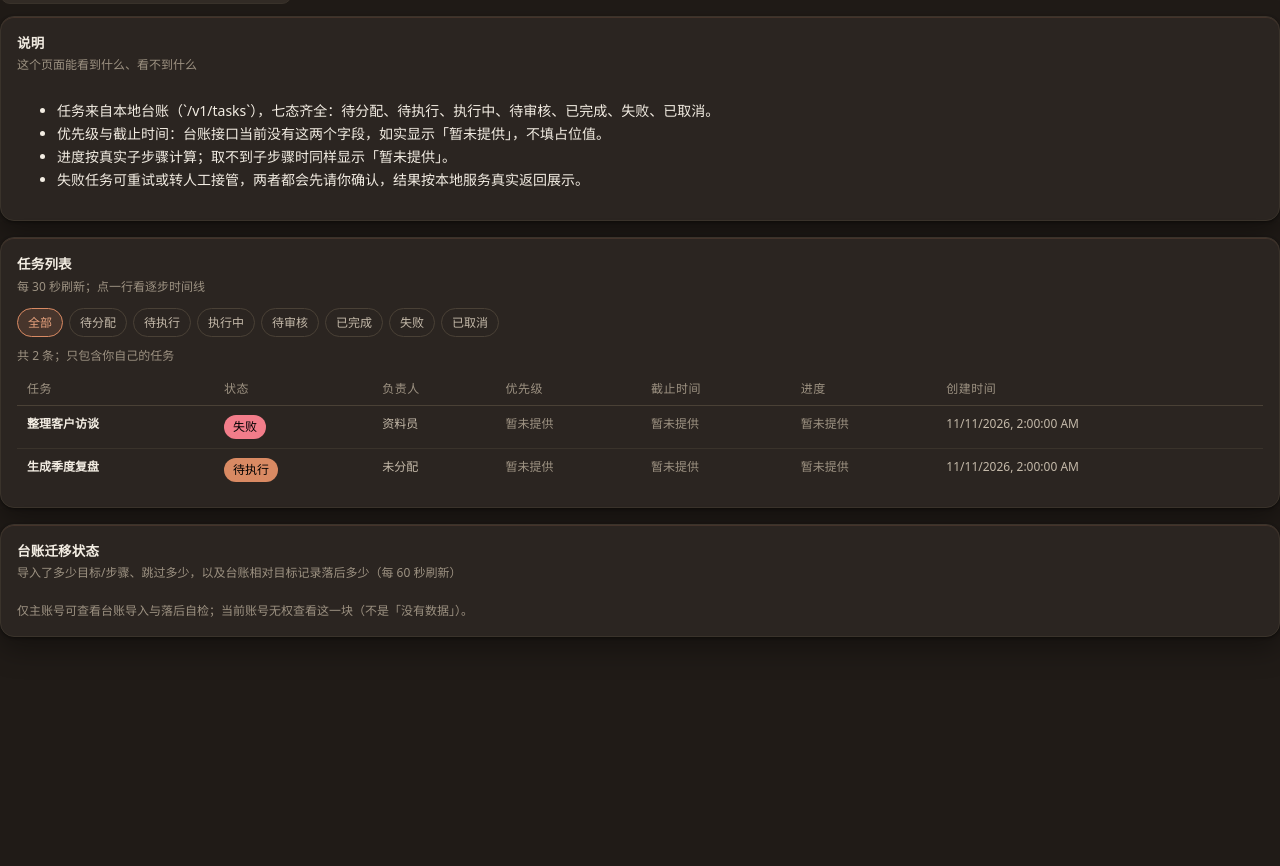
Test: 失败处理 › 重试冲突（409）原样显示后端原因，不伪装成成功
What coordinates should you click on to do the following:
click the button "整理客户访谈"
I would click on:
 (63, 424)
Its box is [27,415,99,433].
(page scrolled)
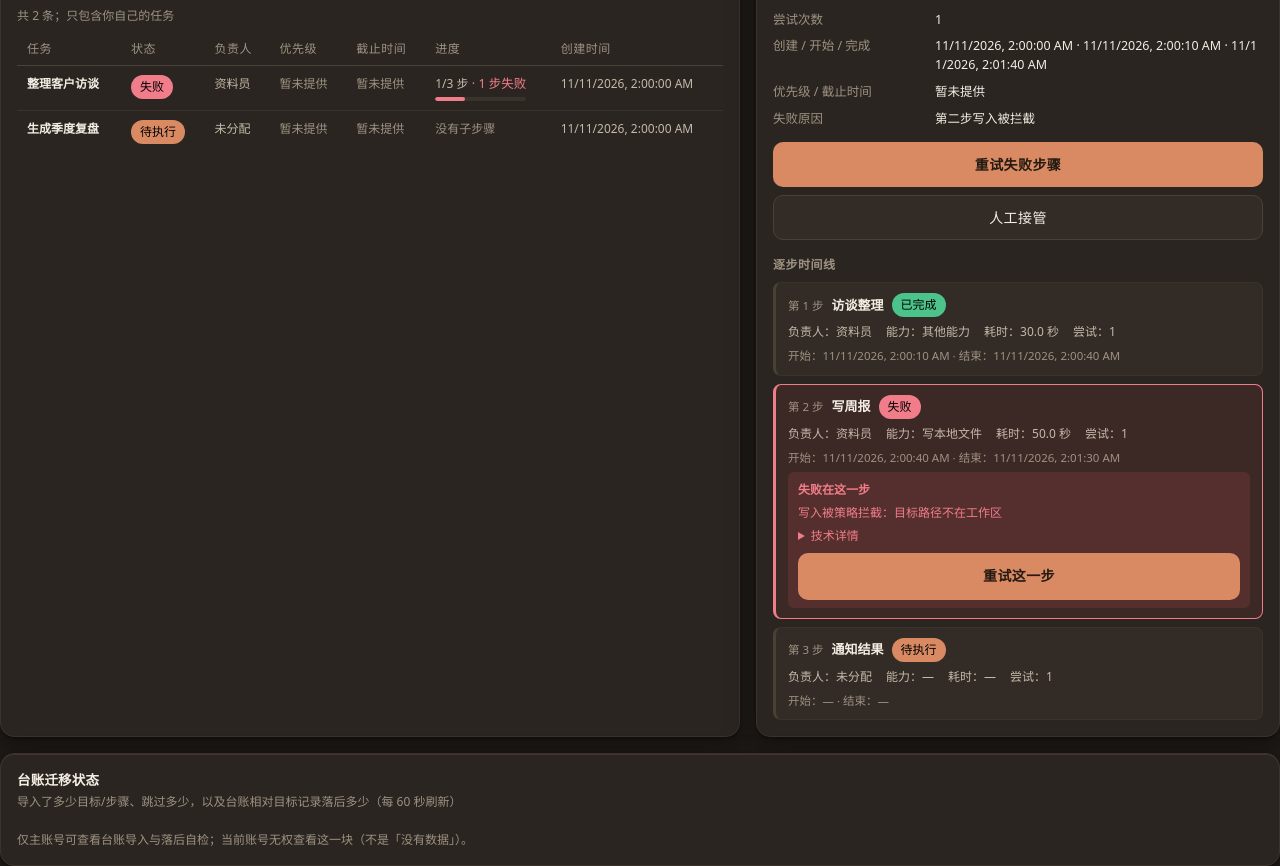
Check: the heading "逐步时间线" is shown, box [773,256,835,273]
What coordinates should you click on to do the following:
click the button "重试这一步"
I would click on:
 (1019, 576)
Its box is [798,553,1240,600].
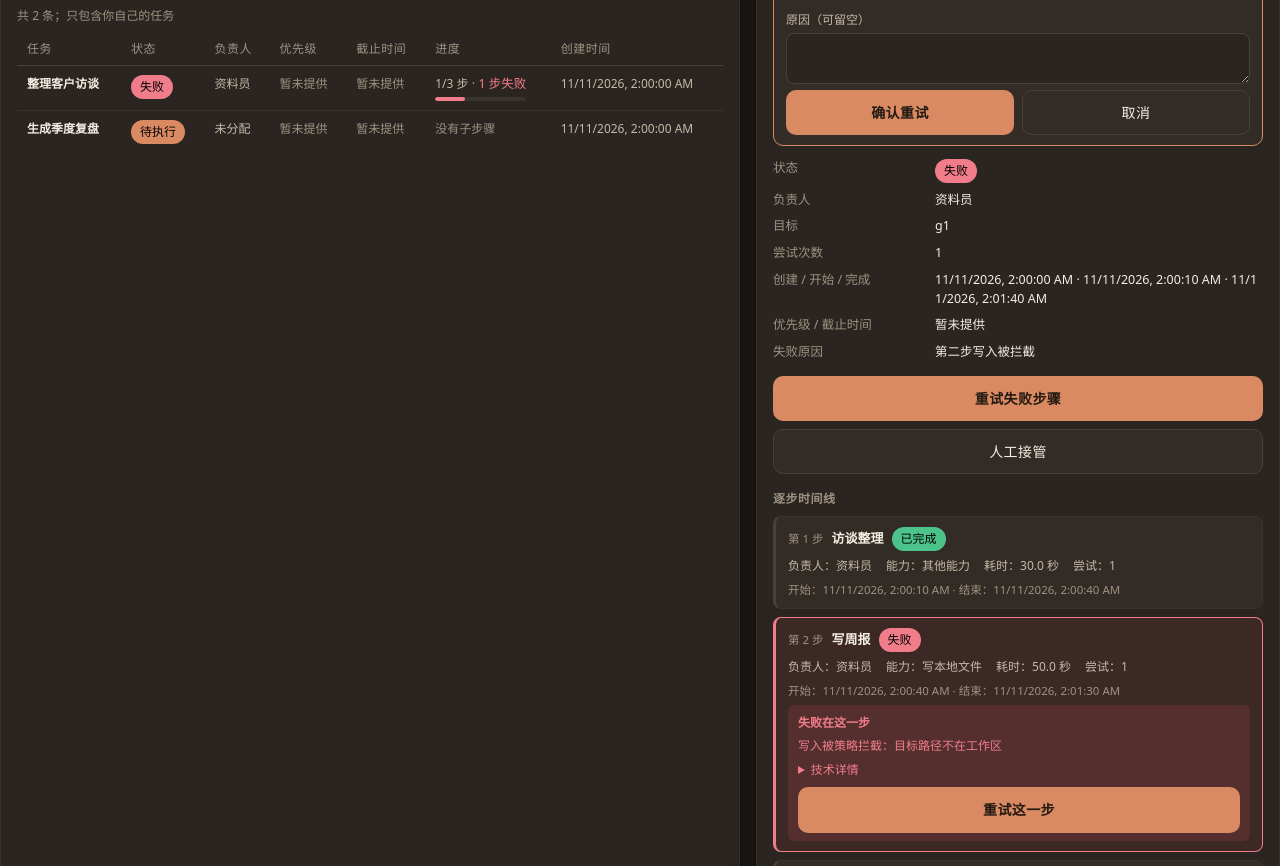
What coordinates should you click on to do the following:
click the button "确认重试"
I would click on:
 (900, 112)
Its box is [786,90,1014,135].
(page scrolled)
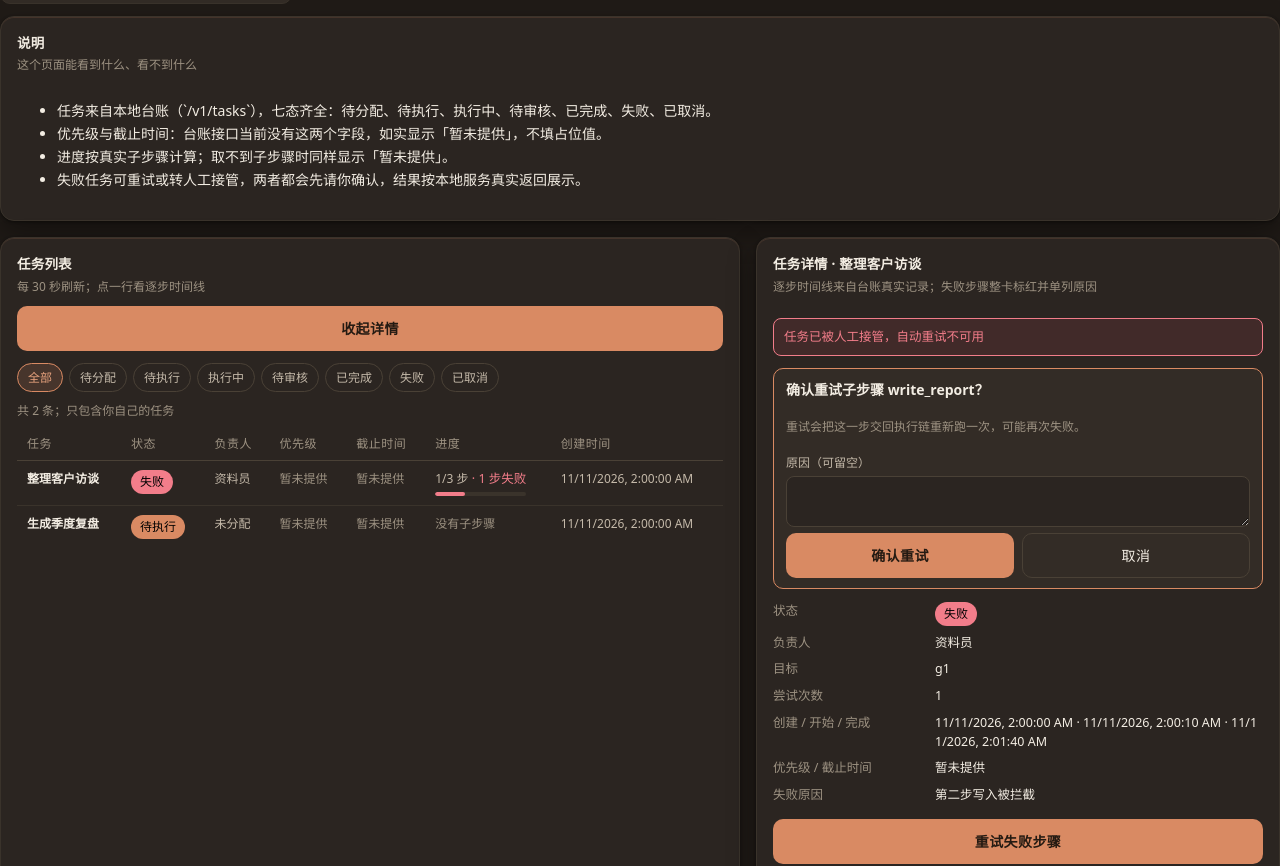
Check: the message reads "任务已被人工接管，自动重试不可用", box [784,328,984,344]
